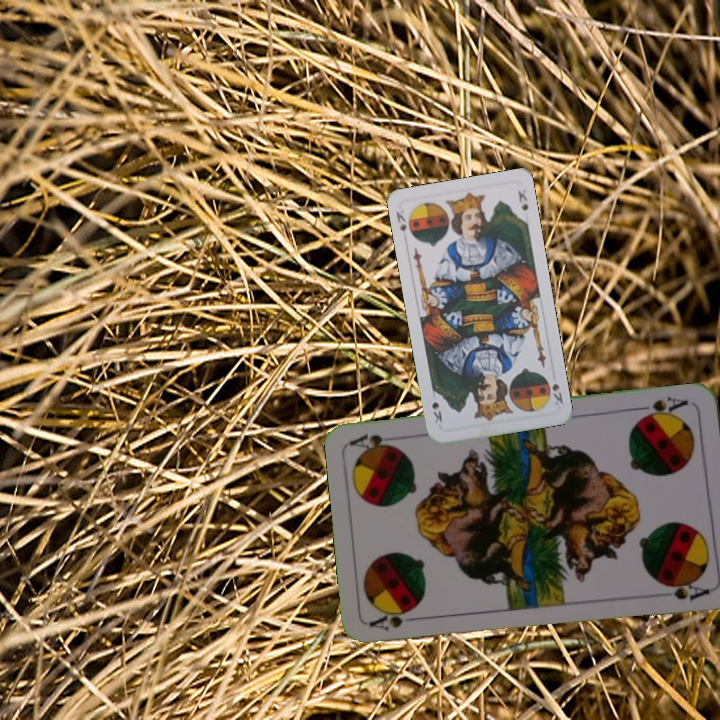SA: (366, 602, 425, 633), (637, 392, 691, 422)
SK: (548, 379, 566, 408), (391, 206, 409, 235)
